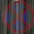No Stopping: (0, 0, 33, 32)
